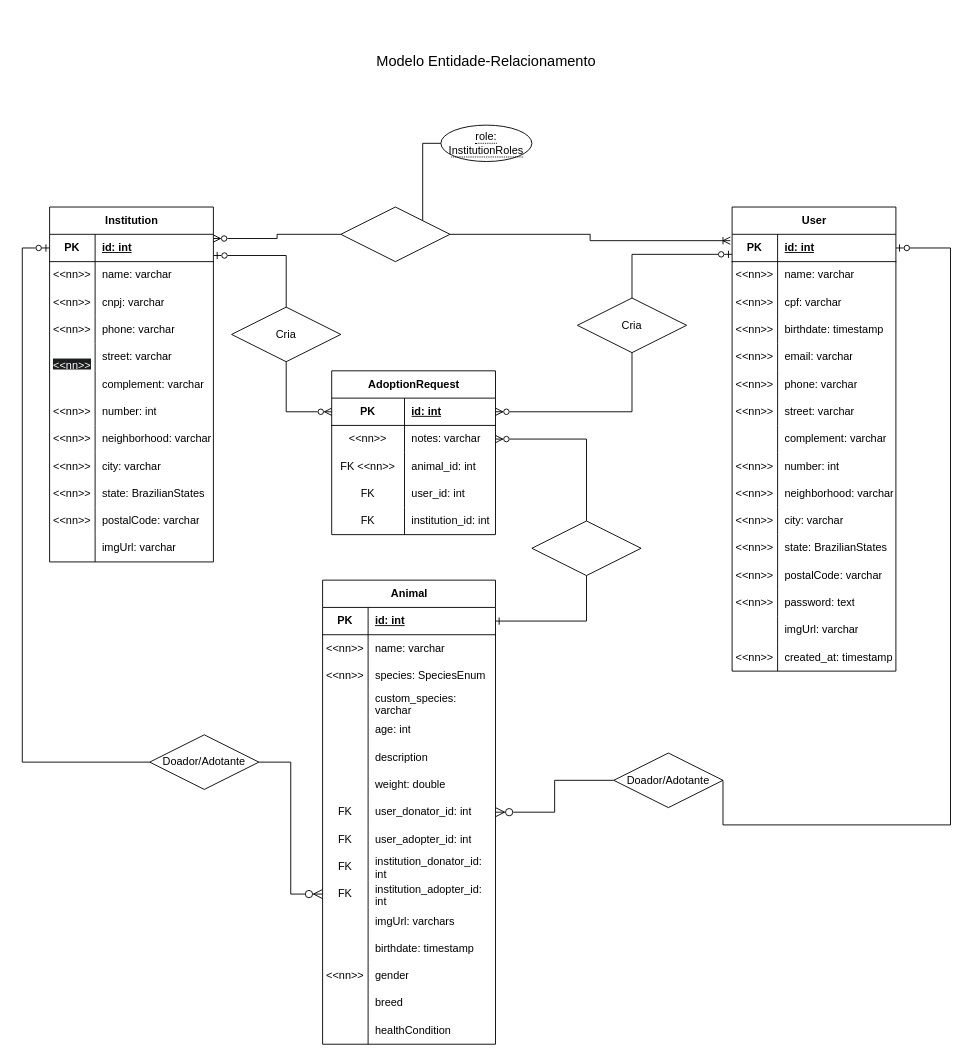
This 974x1060 diagram has some shape labels left out. The shapes that lost their labels are listed below. From the top down, each one's centre as x and y in pixels, then its label:
(x=395, y=234): Trabalha
(x=586, y=548): Pertence
